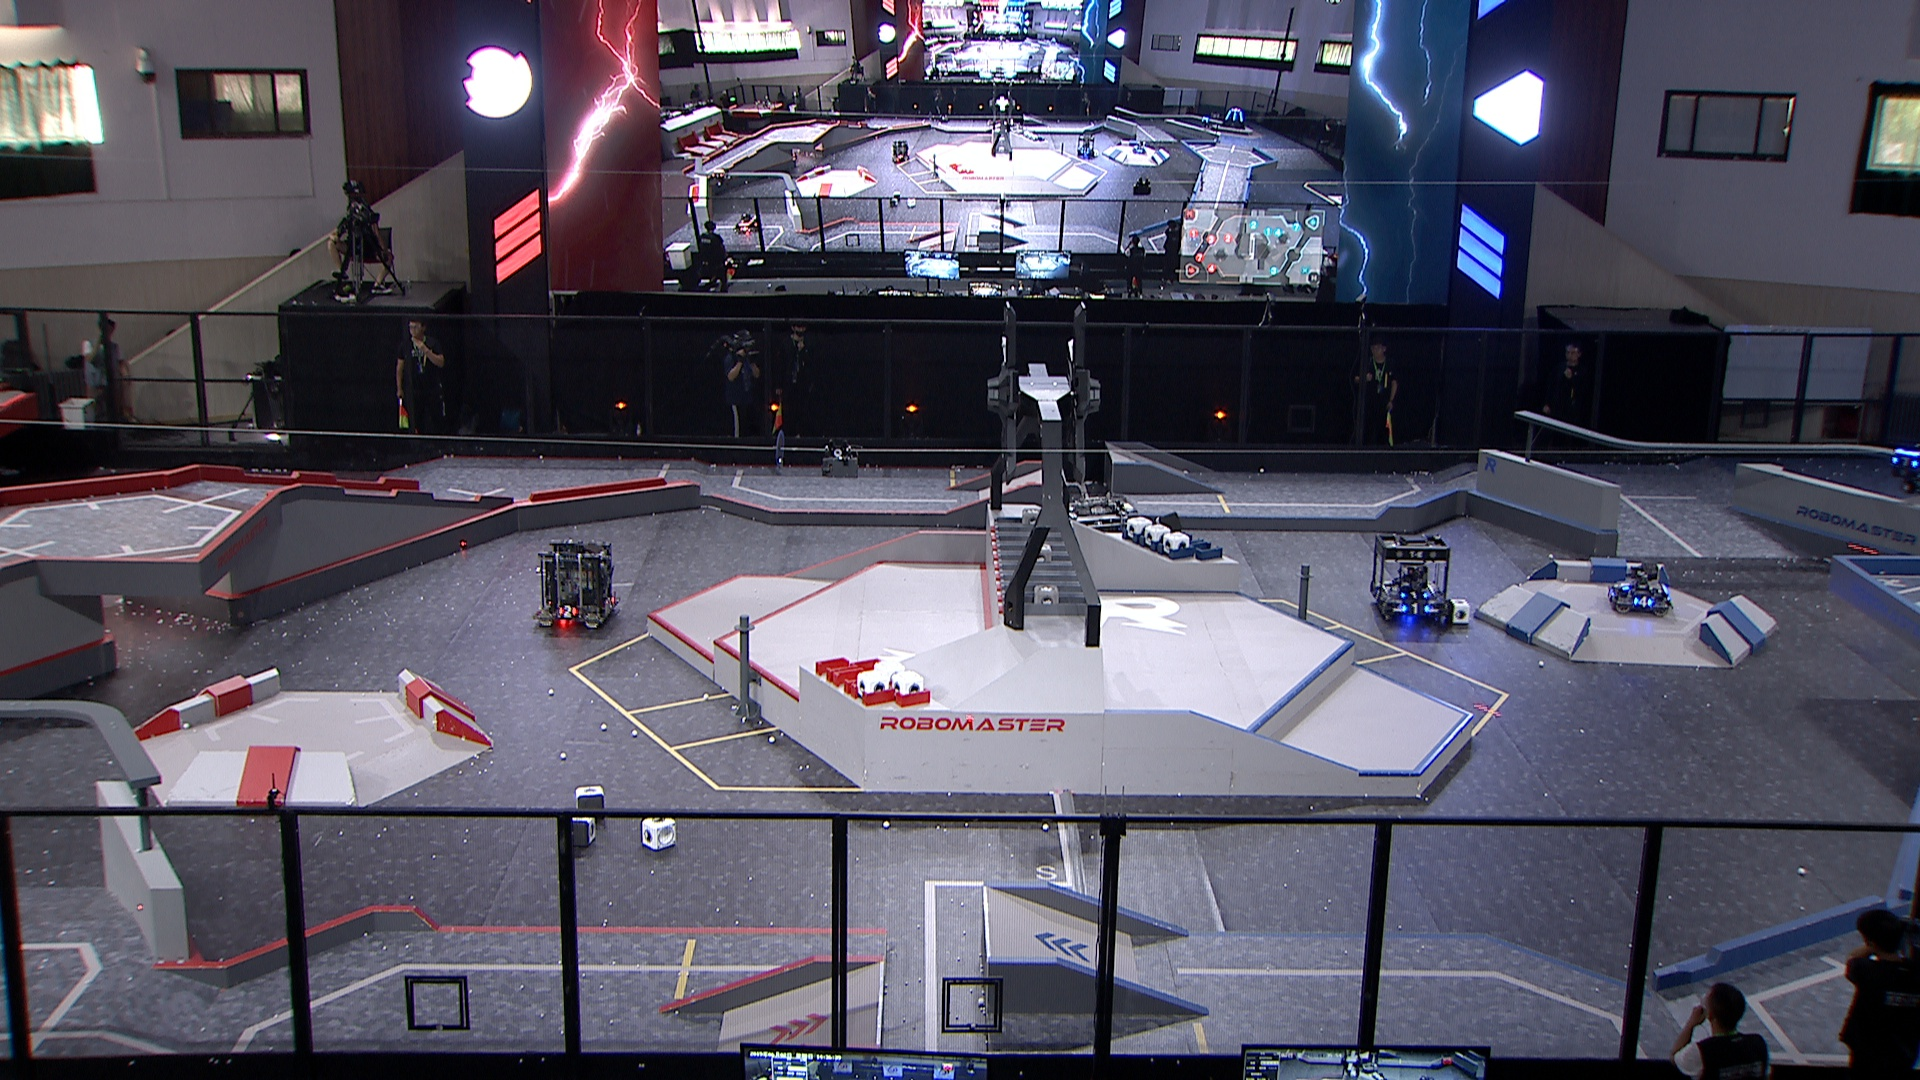armor: (556, 603, 578, 622), (1894, 454, 1917, 469), (1404, 600, 1428, 615), (1367, 585, 1385, 605), (1633, 597, 1652, 609), (1404, 589, 1429, 597), (1615, 579, 1629, 593), (604, 593, 617, 608), (1607, 585, 1615, 600)
car: (1364, 529, 1456, 628), (531, 537, 621, 632), (1069, 493, 1158, 576), (1607, 560, 1675, 616)
ignore: (732, 208, 764, 243), (1069, 129, 1097, 160), (1220, 105, 1247, 131), (703, 164, 727, 189), (891, 140, 913, 166), (1125, 138, 1149, 156), (1195, 109, 1215, 128)
watcher: (1887, 434, 1920, 491)
